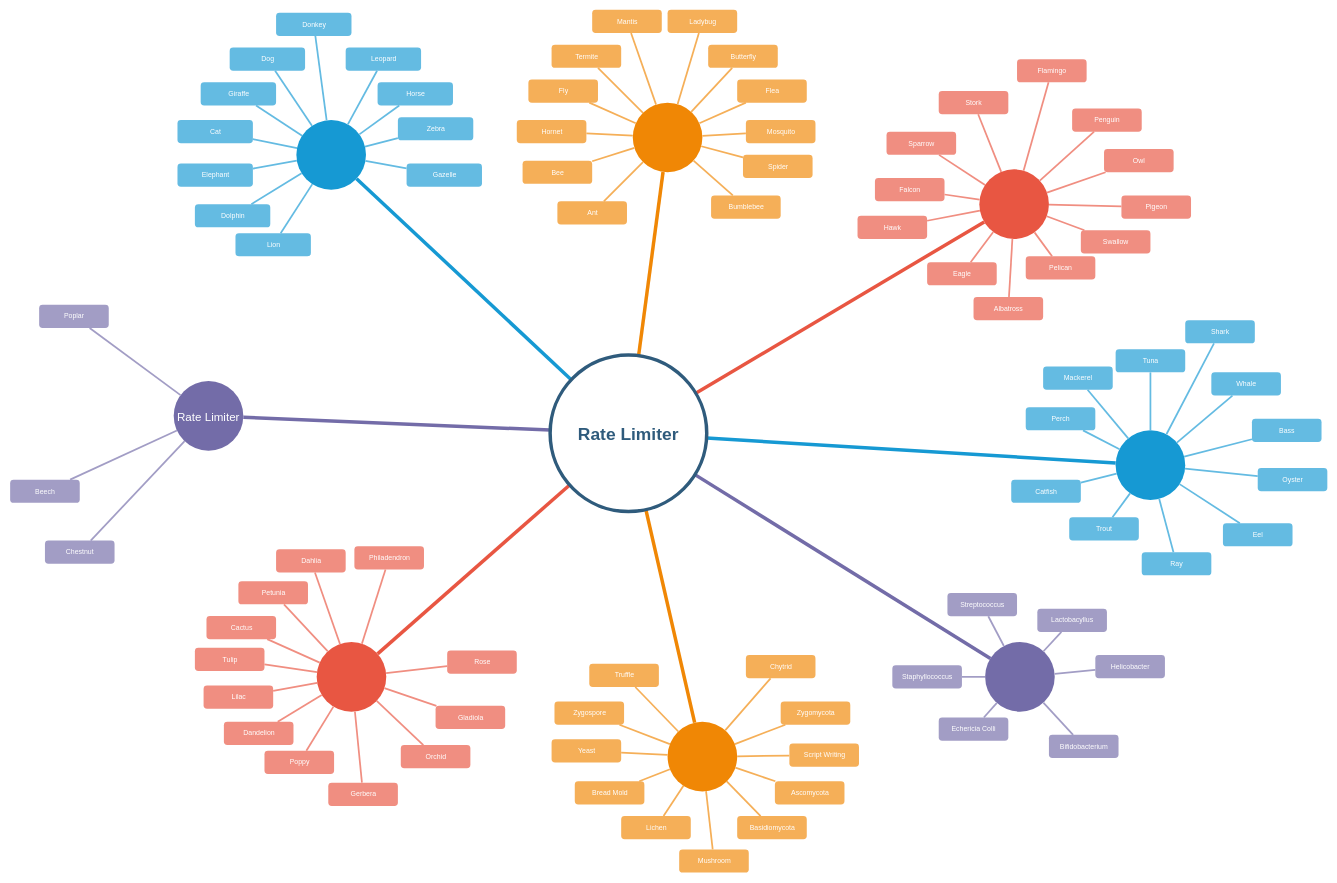
This 1337x883 diagram has some shape labels left out. Each missing label, with the centre of its shape:
Bacteria: (x=1019, y=676)
Bird: (x=1014, y=204)
Fish: (x=1150, y=465)
Flower: (x=351, y=676)
Fungi: (x=702, y=756)
Insect: (x=667, y=137)
Mammal: (x=331, y=154)
